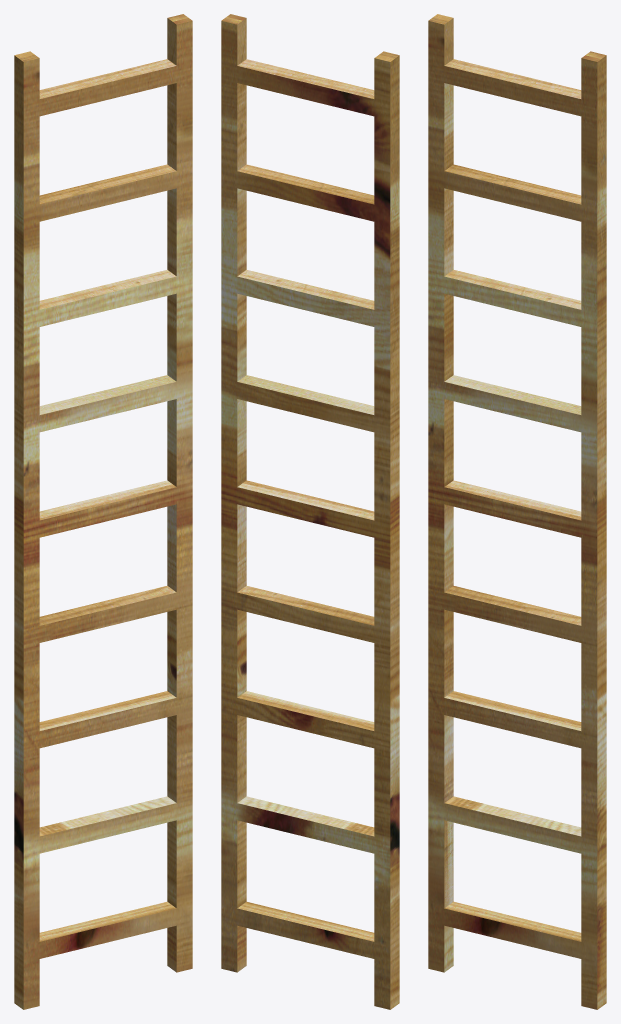
File: Ladder.fbx
The picture shows the model from 3 angles, left to right: view 1: azimuth 30°, elevation 25°; view 2: azimuth 150°, elevation 25°; view 3: azimuth 330°, elevation 25°; orthographic projection.
Parts seen in each view (by area): view 1: Ladder; view 2: Ladder; view 3: Ladder.
Boxes of the visible parts, x1=… form: Ladder: x1=14, y1=14, x2=192, y2=1009; Ladder: x1=221, y1=14, x2=399, y2=1009; Ladder: x1=428, y1=14, x2=606, y2=1009.
Size of the model in its own units: 34.56 by 185 by 3.28.
1 material, 1 textured.
